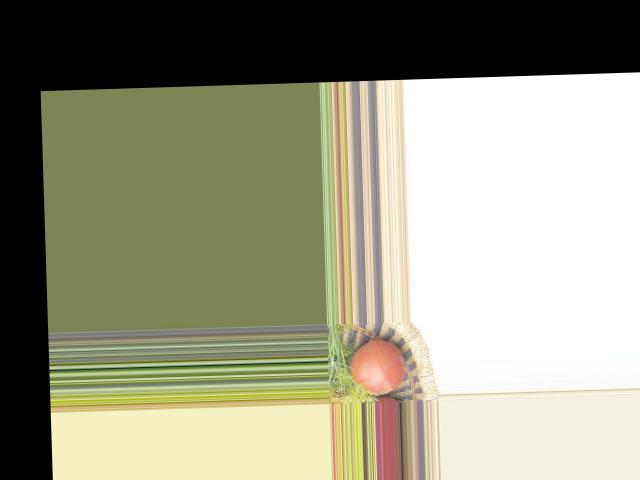tomato: (348, 339, 405, 395)
